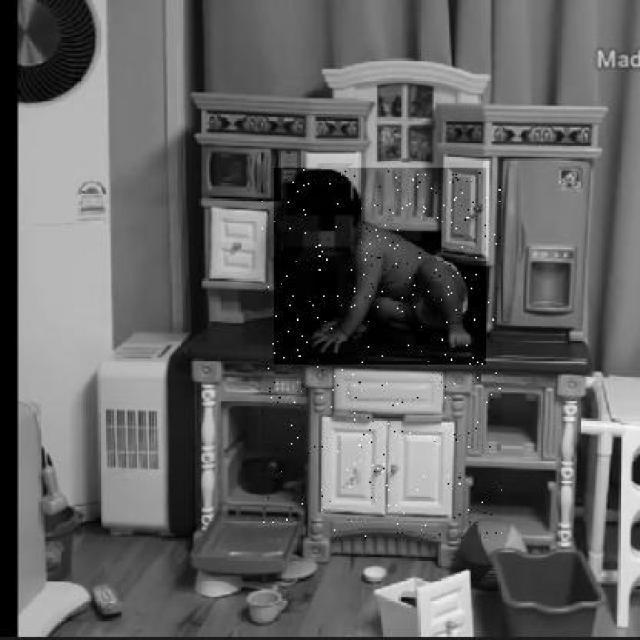child: (262, 170, 502, 539), (275, 168, 488, 365)
